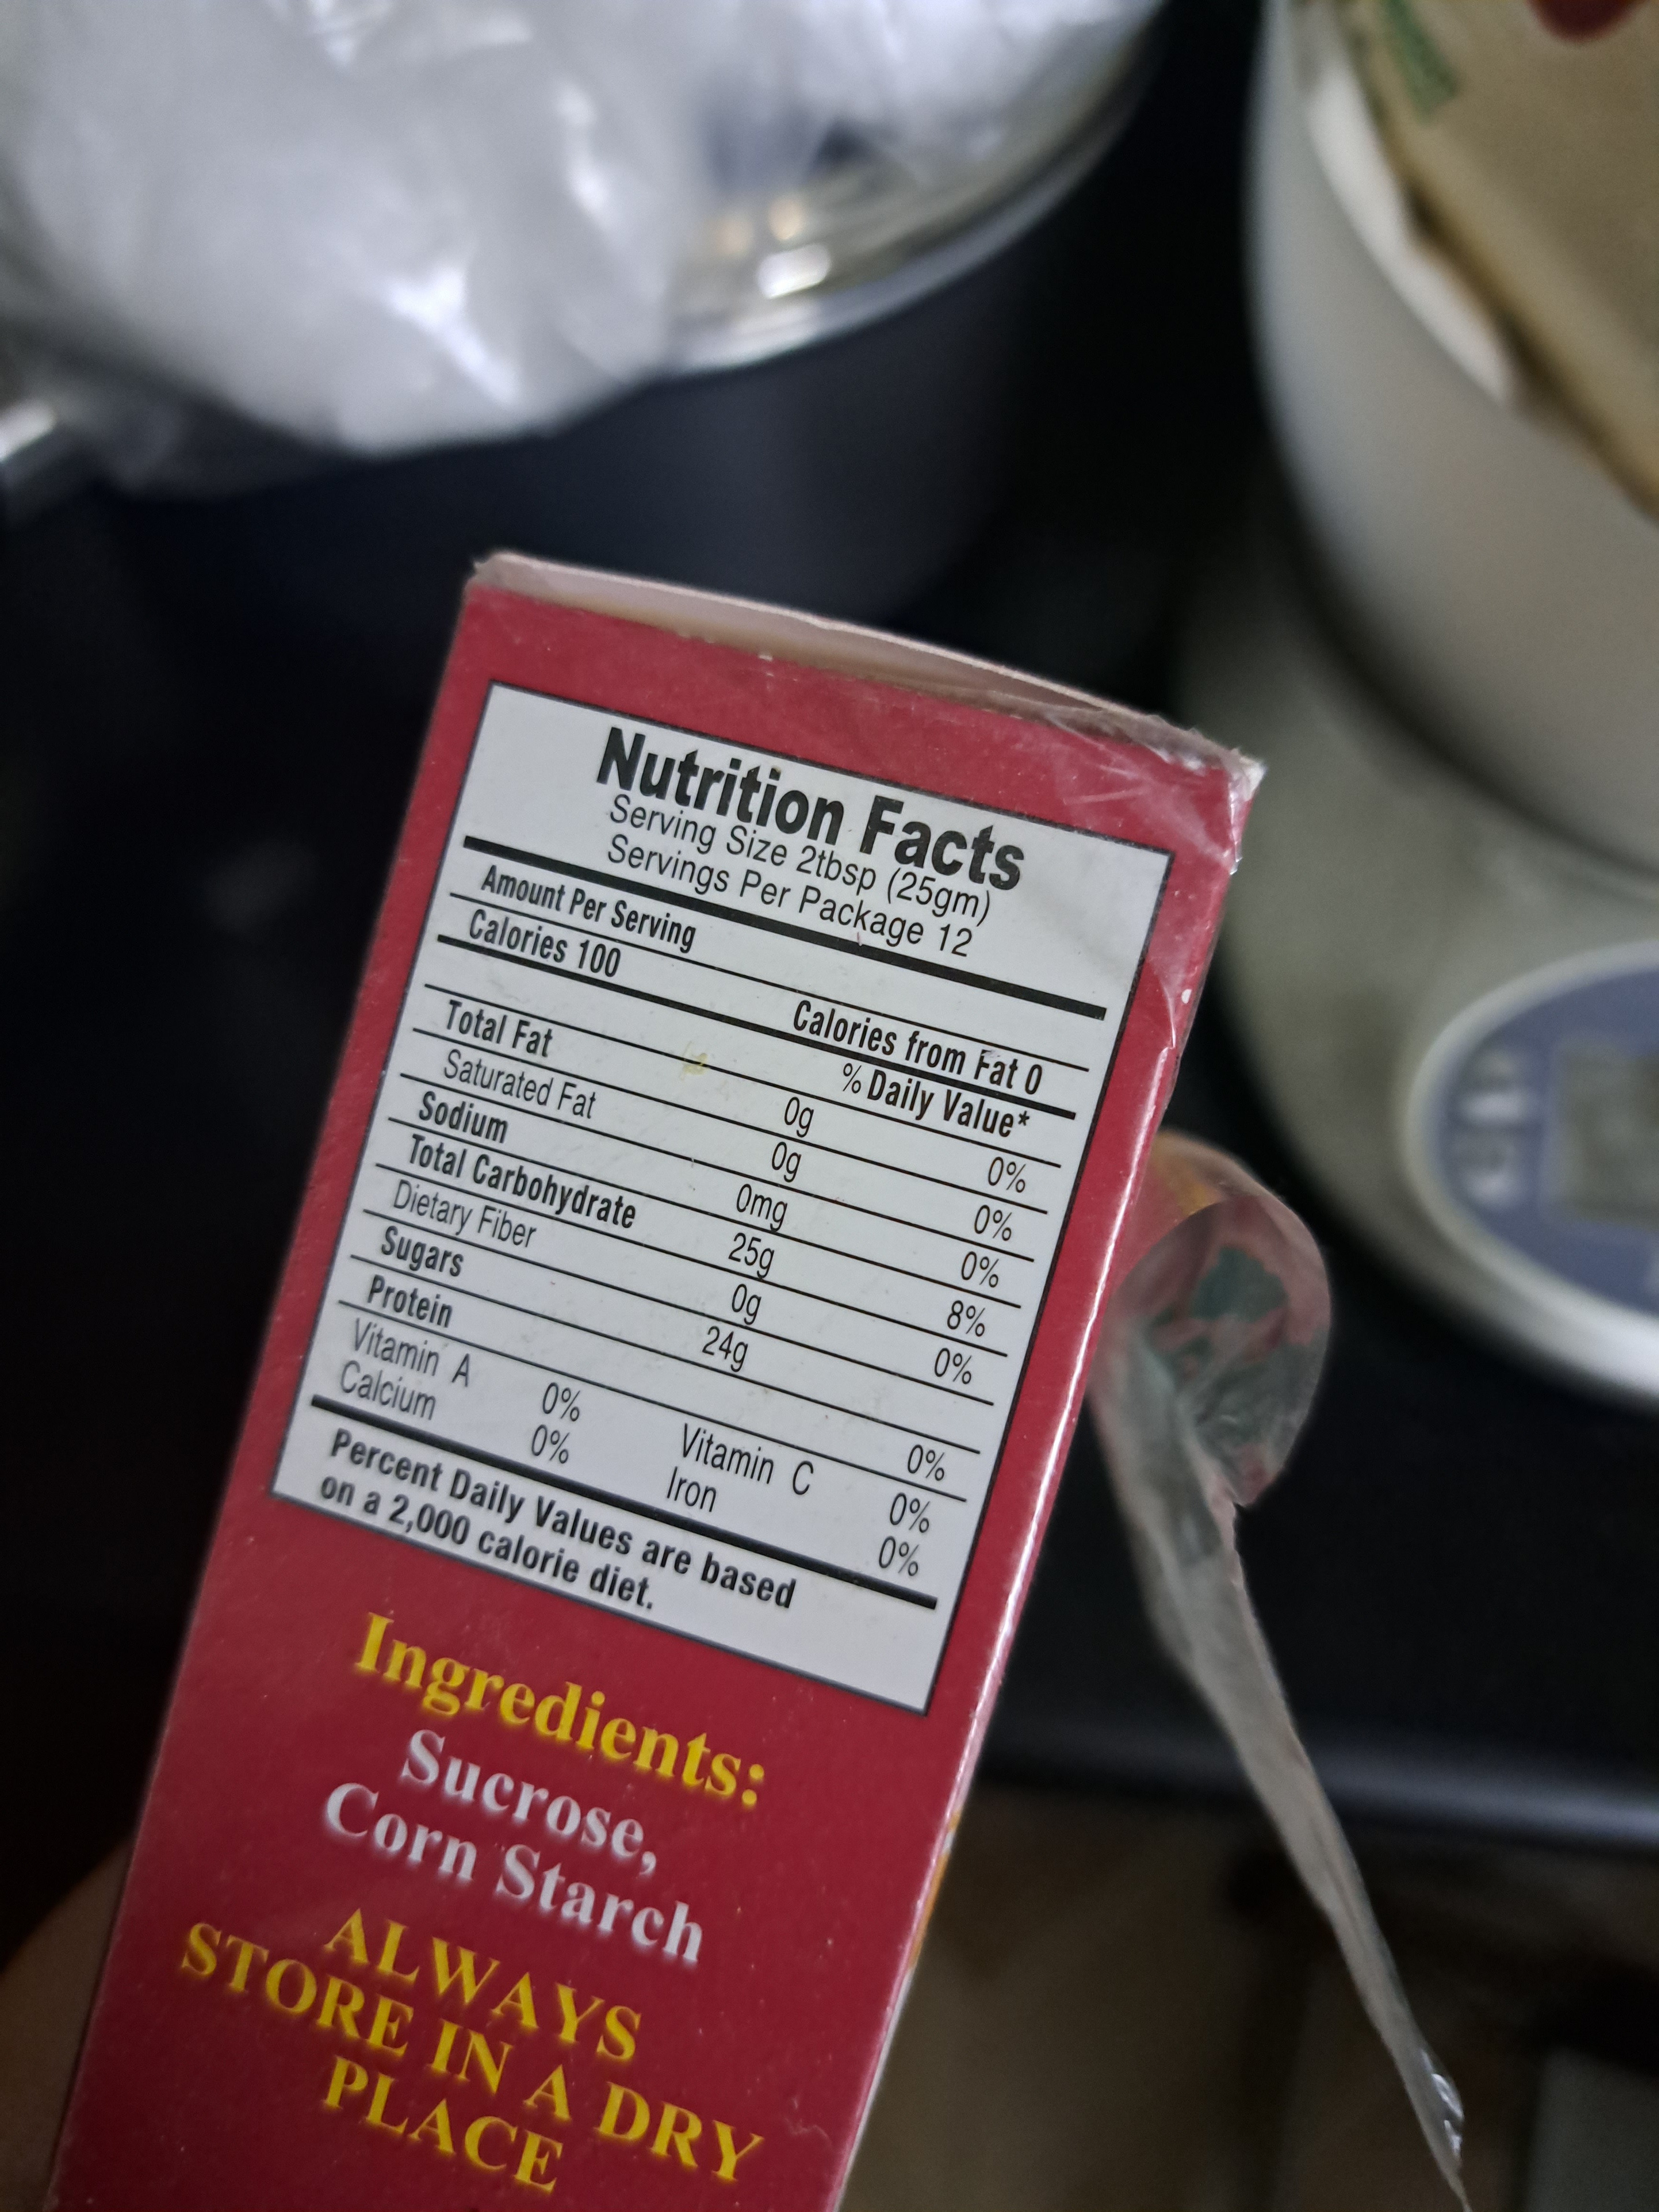table: (270, 681, 1171, 1726)
